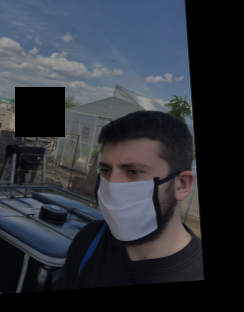with_mask: (94, 153, 165, 244)
